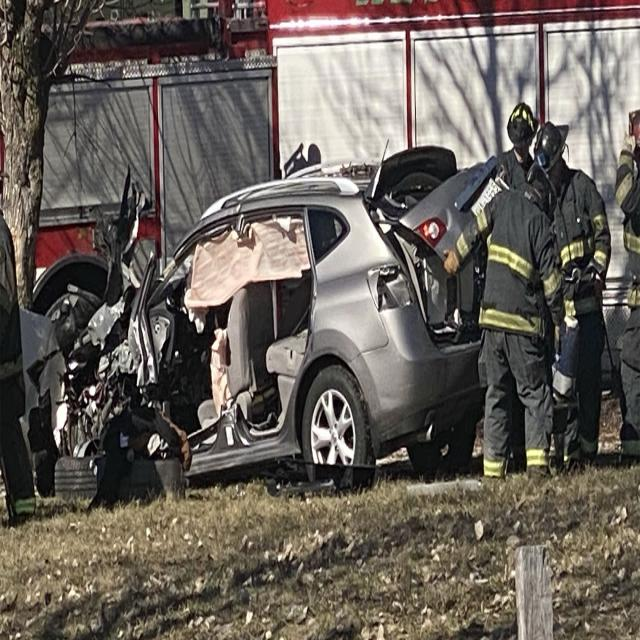accident: (55, 147, 500, 499)
